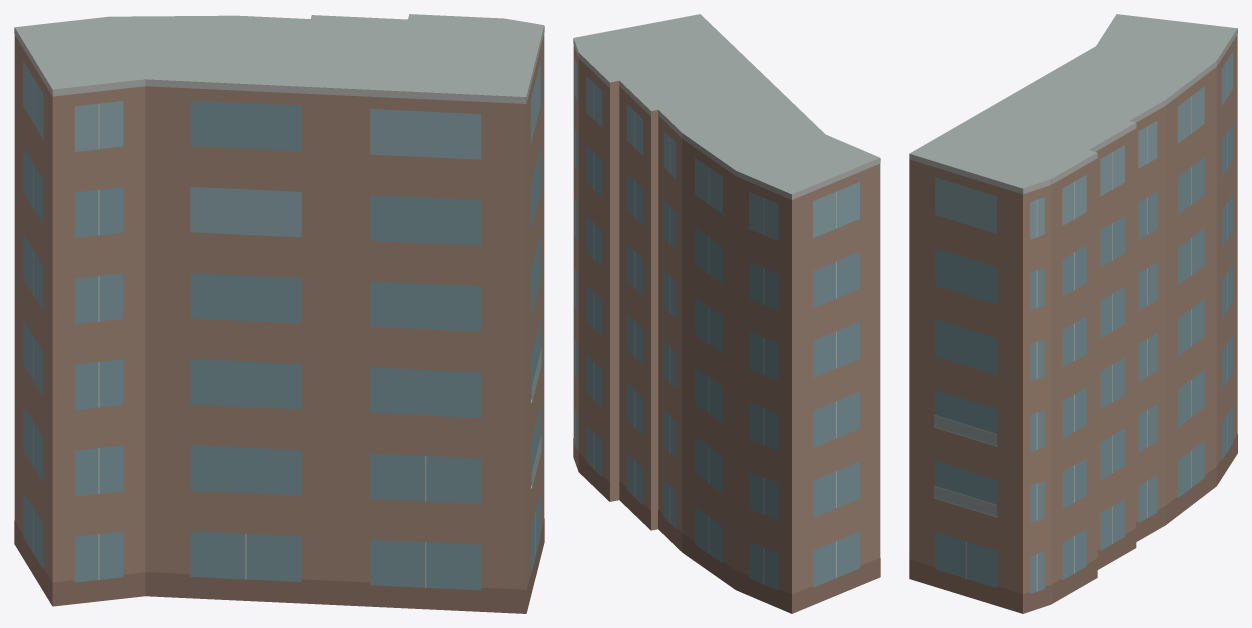
The model's file is survey-upis-32661326.glb.
3 views of the same model, side by side, from view 1: azimuth 30°, elevation 25°; view 2: azimuth 150°, elevation 25°; view 3: azimuth 270°, elevation 25° (orthographic). The views are drawn at different scales.
Visible parts, largest first — view 1: survey-upis-32661326.tmp; view 2: survey-upis-32661326.tmp; view 3: survey-upis-32661326.tmp.
Boxes of the visible parts, x1,y1,x2,y2 form: survey-upis-32661326.tmp: (14, 14, 544, 613); survey-upis-32661326.tmp: (573, 14, 880, 613); survey-upis-32661326.tmp: (909, 14, 1237, 613).
Bounding box in the file's own units: 16.13 × 18.3 × 12.82.
